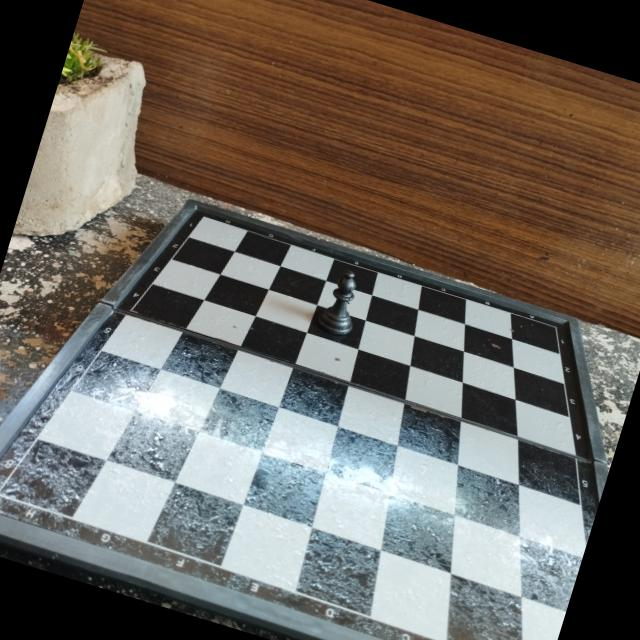Black Bishop: (302, 256, 376, 350)
